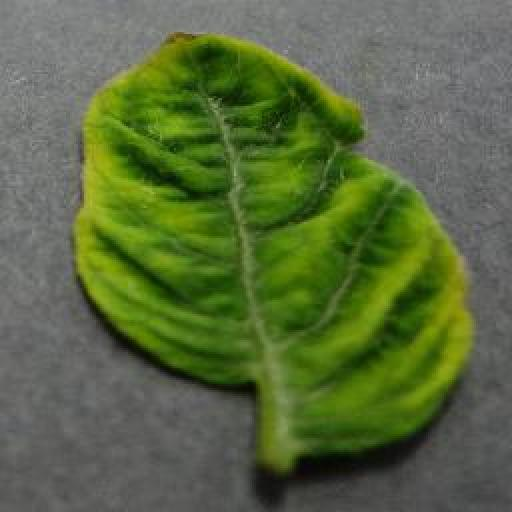disease_tomato: (77, 25, 476, 452)
